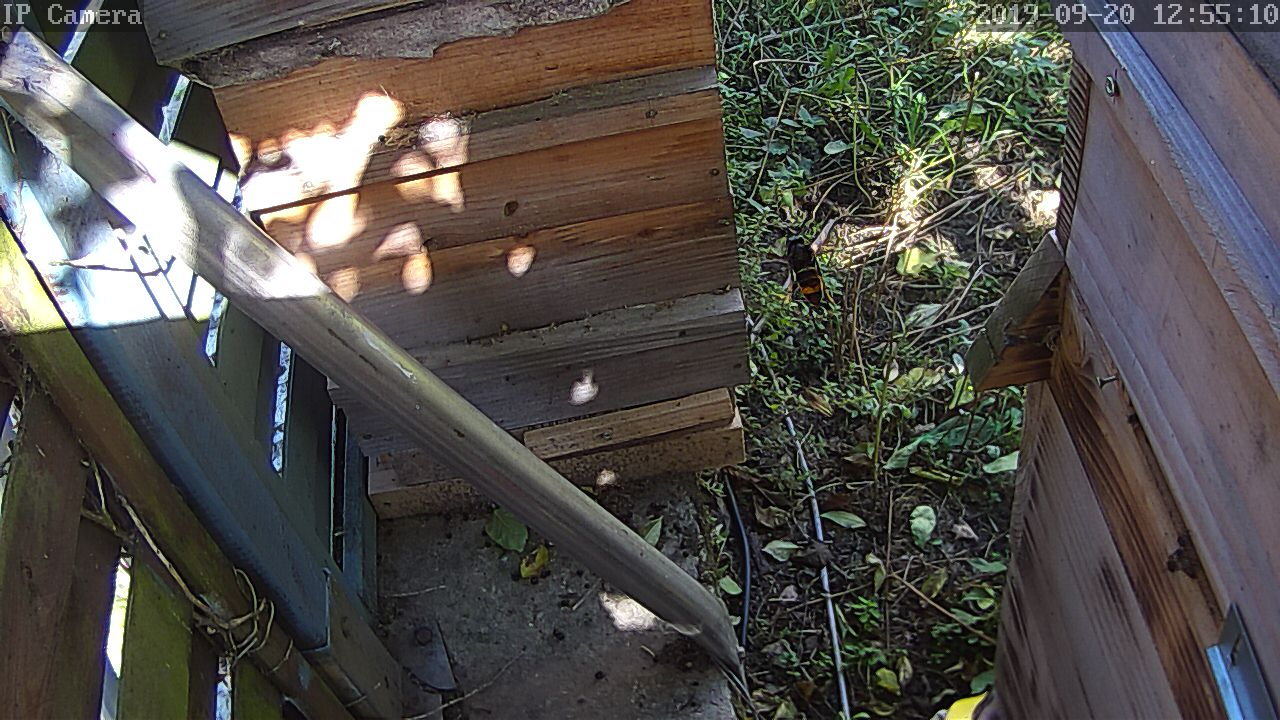bee: (1164, 527, 1202, 579)
hornet: (778, 233, 835, 318)
